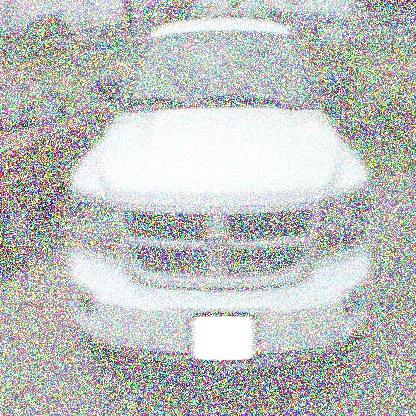Vehicle: (67, 17, 375, 373)
